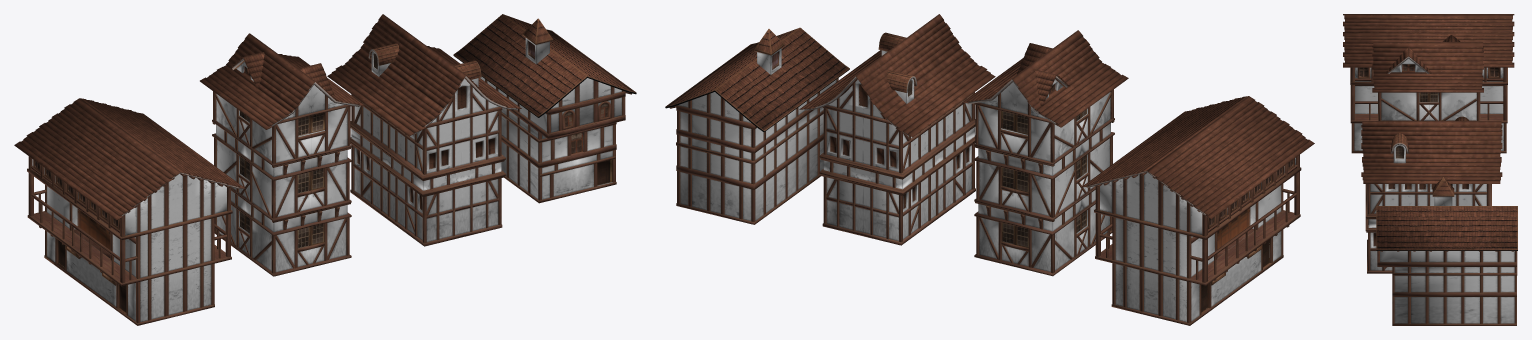
Rendered from anime_medieval_house.glb.
The picture shows the model from 3 angles, left to right: view 1: azimuth 30°, elevation 25°; view 2: azimuth 150°, elevation 25°; view 3: azimuth 270°, elevation 25°; orthographic projection. The views are drawn at different scales.
Parts seen in each view (by area): view 1: desirefx_me_19_5, desirefx_me_5_0, desirefx_me_18_4, desirefx_me_13_2, desirefx_me_20_6, desirefx_me_14_3, desirefx_me_6_1; view 2: desirefx_me_18_4, desirefx_me_19_5, desirefx_me_5_0, desirefx_me_13_2, desirefx_me_20_6, desirefx_me_14_3, desirefx_me_6_1; view 3: desirefx_me_18_4, desirefx_me_14_3, desirefx_me_20_6, desirefx_me_6_1, desirefx_me_13_2, desirefx_me_19_5, desirefx_me_5_0.
Part boxes in pixels (x1,y1,x2,y2): desirefx_me_19_5: (27,156,240,325); desirefx_me_5_0: (212,58,359,276); desirefx_me_18_4: (453,14,636,203); desirefx_me_13_2: (350,43,516,246); desirefx_me_20_6: (14,98,245,220); desirefx_me_14_3: (327,14,521,136); desirefx_me_6_1: (200,33,365,129); desirefx_me_18_4: (665,27,849,224); desirefx_me_19_5: (1086,155,1301,325); desirefx_me_5_0: (967,76,1114,276); desirefx_me_13_2: (805,32,975,245); desirefx_me_20_6: (1081,96,1314,219); desirefx_me_14_3: (799,14,995,137); desirefx_me_6_1: (961,30,1128,127); desirefx_me_18_4: (1376,177,1517,325); desirefx_me_14_3: (1361,121,1502,183); desirefx_me_20_6: (1343,14,1514,67); desirefx_me_6_1: (1372,35,1483,92); desirefx_me_13_2: (1365,116,1491,273); desirefx_me_19_5: (1350,67,1507,153); desirefx_me_5_0: (1378,56,1480,120).
Bounding box in the file's own units: 3.52 × 1.17 × 1.18.
Materials: 7 (7 with a texture image).
